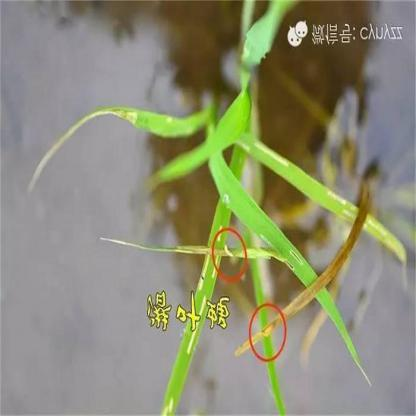whorl-maggot: (221, 240, 238, 265)
